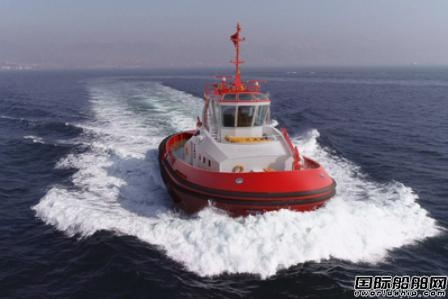otherboat: (154, 28, 339, 228)
